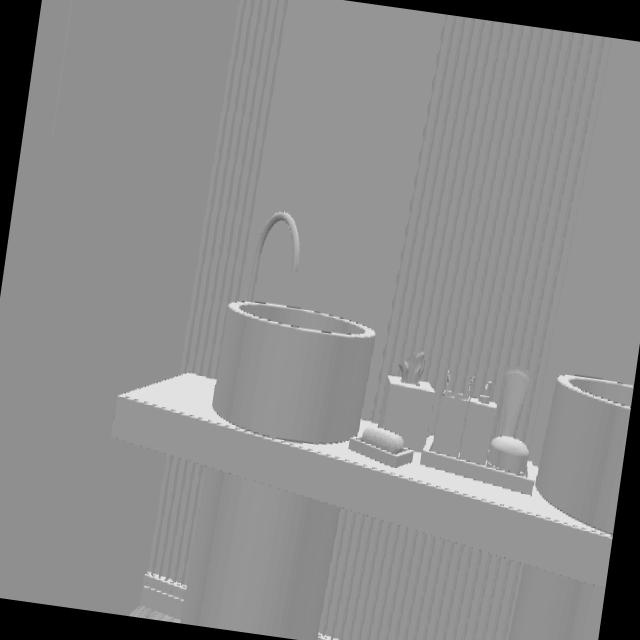washbasin: (211, 300, 376, 447), (536, 374, 634, 536)
